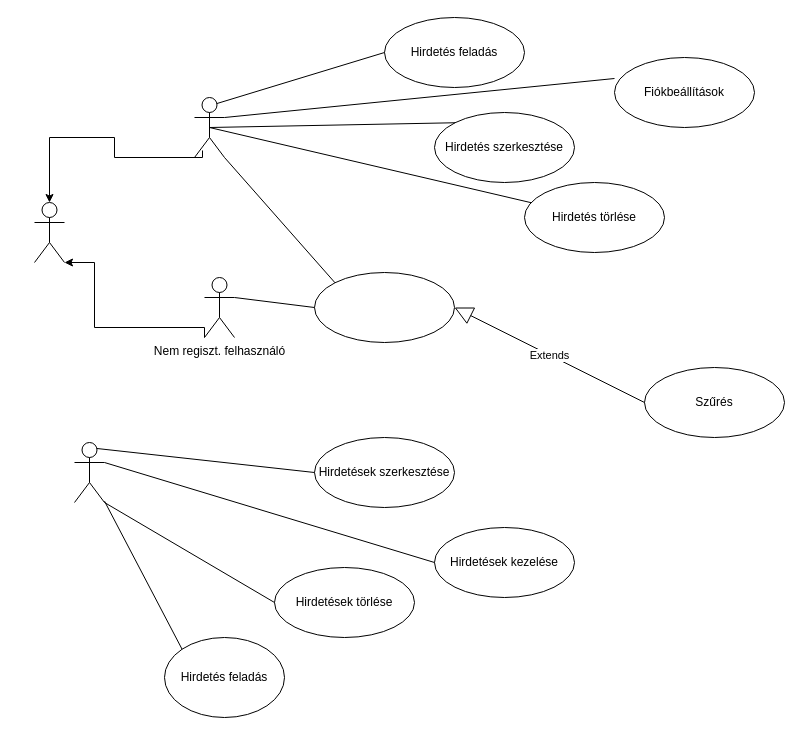
Image size: 802x735. Some labels were removed from this diagram. Here are the shapes that lost their labels. From the top down, the centre of each, then its label:
At [209,127]: "Regisztrált felhasználó".
At [49,232]: "Felhasználó".
At [384,307]: "Keresés".
At [89,472]: "Admin".
